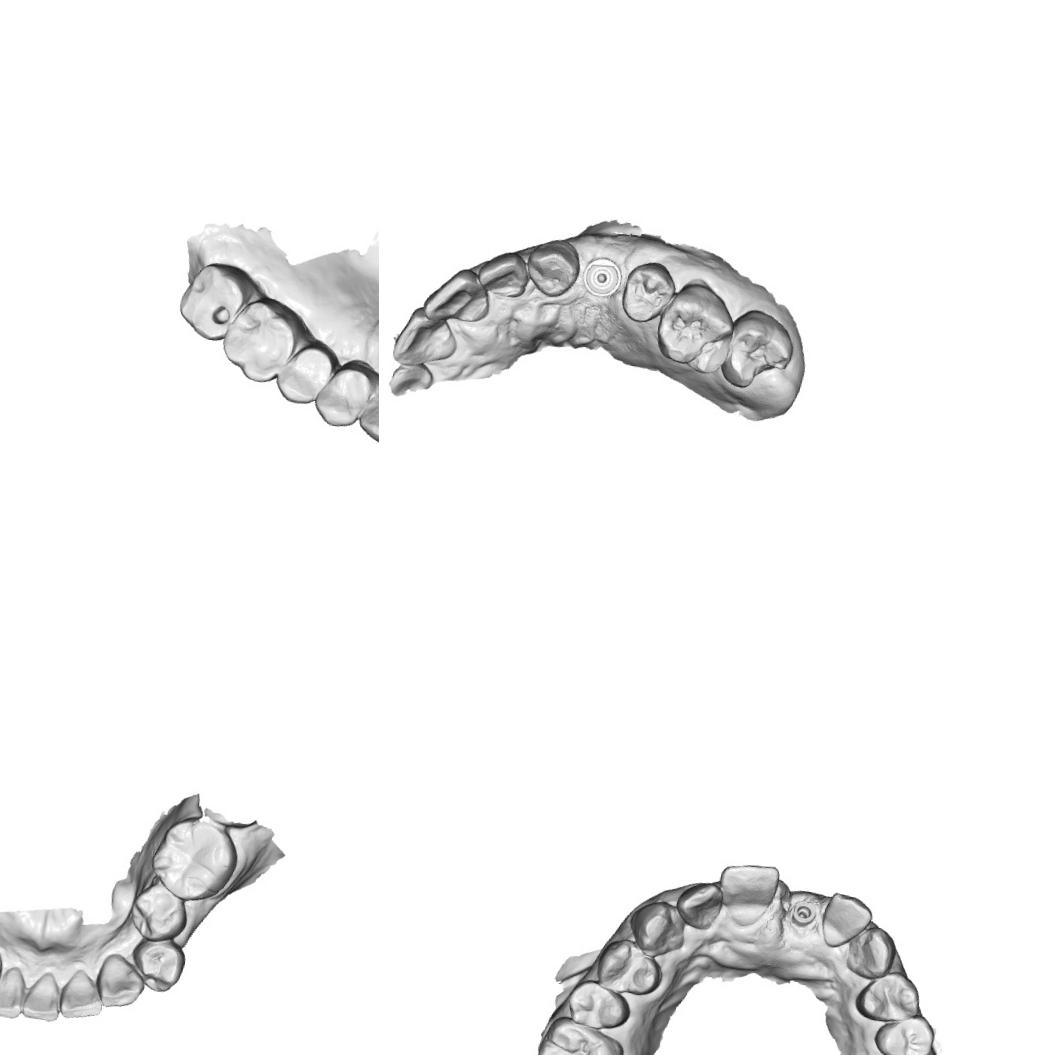canine: (624, 896, 690, 962), (521, 234, 584, 301), (92, 951, 148, 1013), (843, 923, 899, 982), (353, 375, 379, 450)
implant: (582, 257, 627, 300), (787, 898, 819, 930)
incisor: (418, 262, 493, 332), (388, 305, 463, 373), (713, 858, 781, 931), (818, 889, 876, 953), (474, 246, 534, 301), (672, 876, 725, 933), (57, 965, 106, 1023), (21, 968, 64, 1023), (0, 962, 28, 1022)
molar: (650, 273, 741, 379), (145, 811, 244, 907), (215, 290, 309, 389), (171, 256, 259, 348), (720, 306, 800, 396), (531, 1013, 629, 1055)
premolar: (309, 354, 379, 433), (272, 333, 341, 411), (593, 934, 667, 998), (852, 964, 924, 1028), (127, 878, 192, 946), (618, 256, 676, 327), (564, 976, 634, 1033), (128, 934, 188, 995), (871, 1008, 938, 1055)
